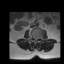CCS_normal: (35, 35, 36, 41)
LFS_normal: (38, 35, 39, 40)
LLS_normal: (36, 35, 38, 40)
RFS_normal: (32, 35, 34, 39)
RLS_normal: (34, 35, 35, 40)
